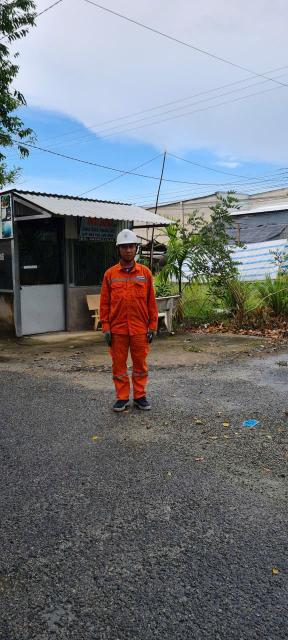gloves: (101, 330, 116, 345), (142, 330, 158, 344)
helmet: (112, 226, 134, 249)
shoes: (133, 394, 155, 413), (111, 397, 133, 411)
